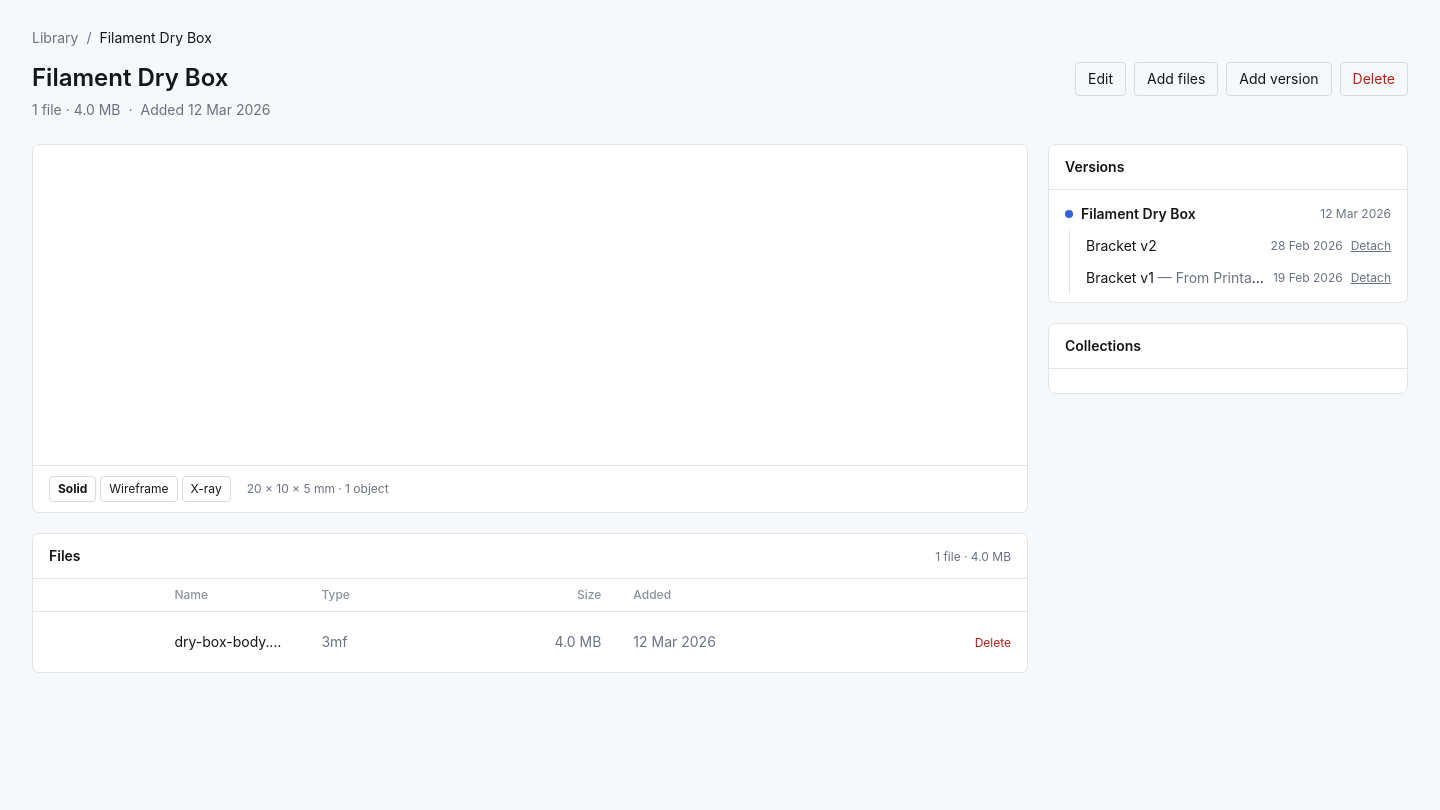
Test case: model detail taxonomy › counts the versions and all their files in the delete confirmation
This screenshot has width=1440, height=810.
Expected: the heading "Filament Dry Box" is shown, [32,63,228,92]
Click the 1st button "Delete".
click(1374, 79)  # box [1340,62,1408,96]
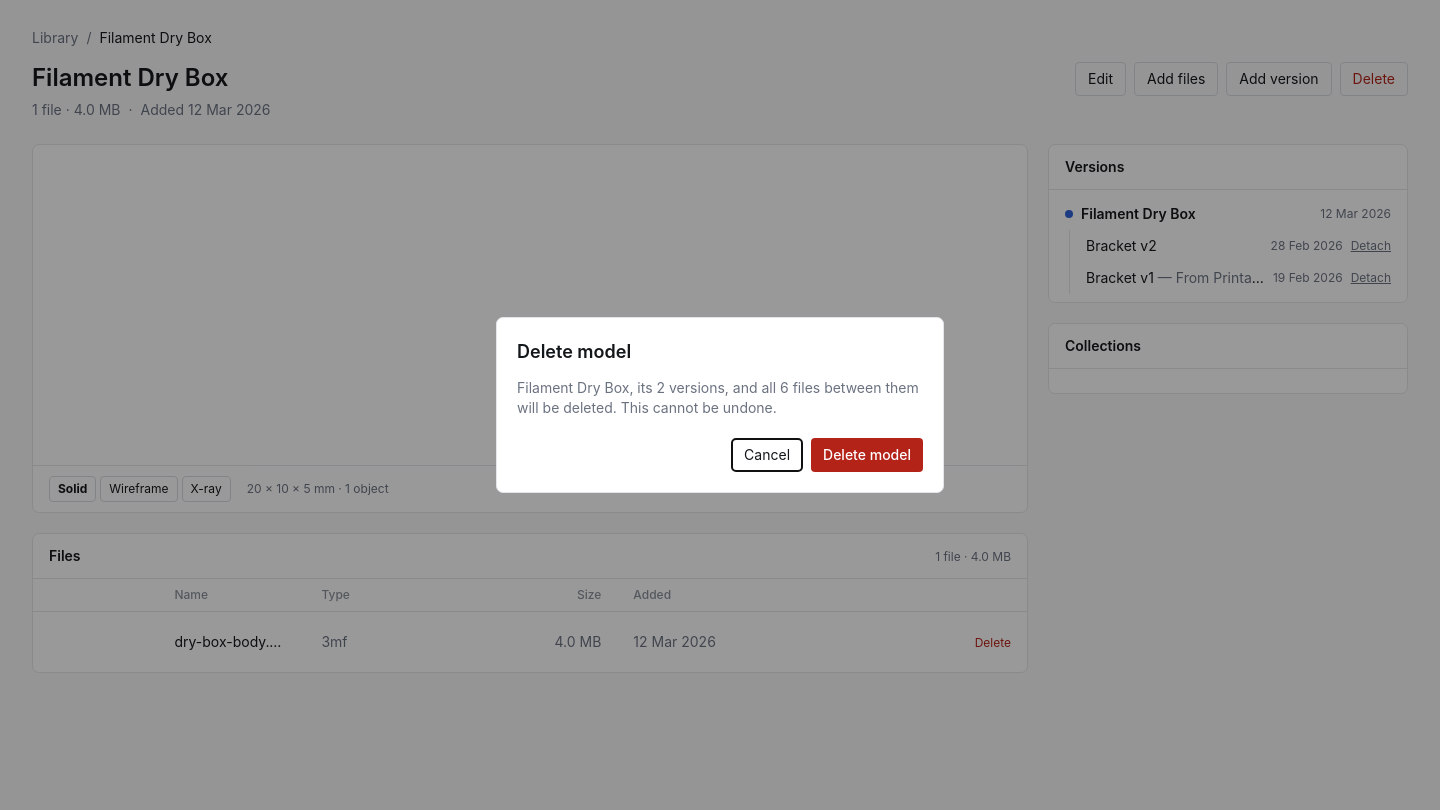
Result: the text "cannot be undone" shows "2 versions" at [517,379,919,416]
Result: the text "cannot be undone" shows "6 files" at [517,379,919,416]
